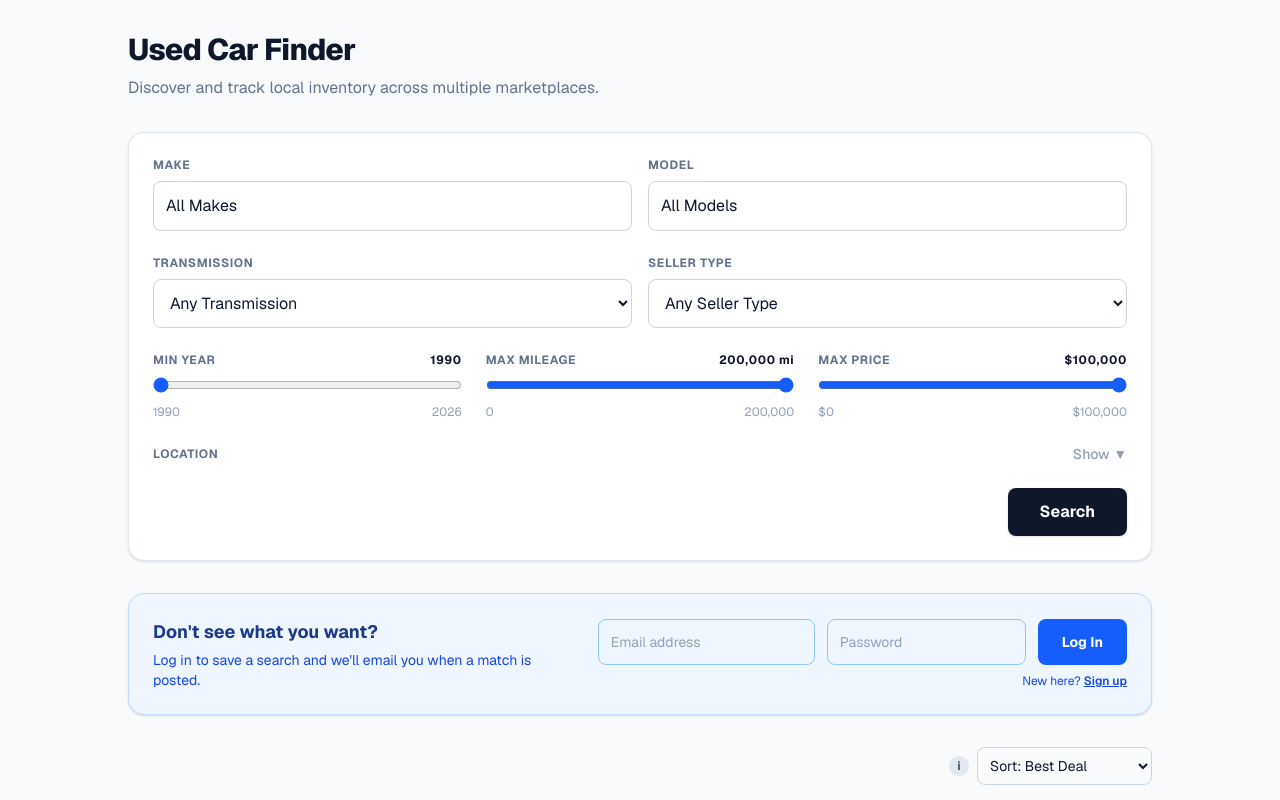
Test: auth › logging in with valid credentials switches to the Save Search form
The image size is (1280, 800).
Type "owner@example.com" into the field with placeholder "Email address" at (706, 642), box [598, 619, 815, 665]
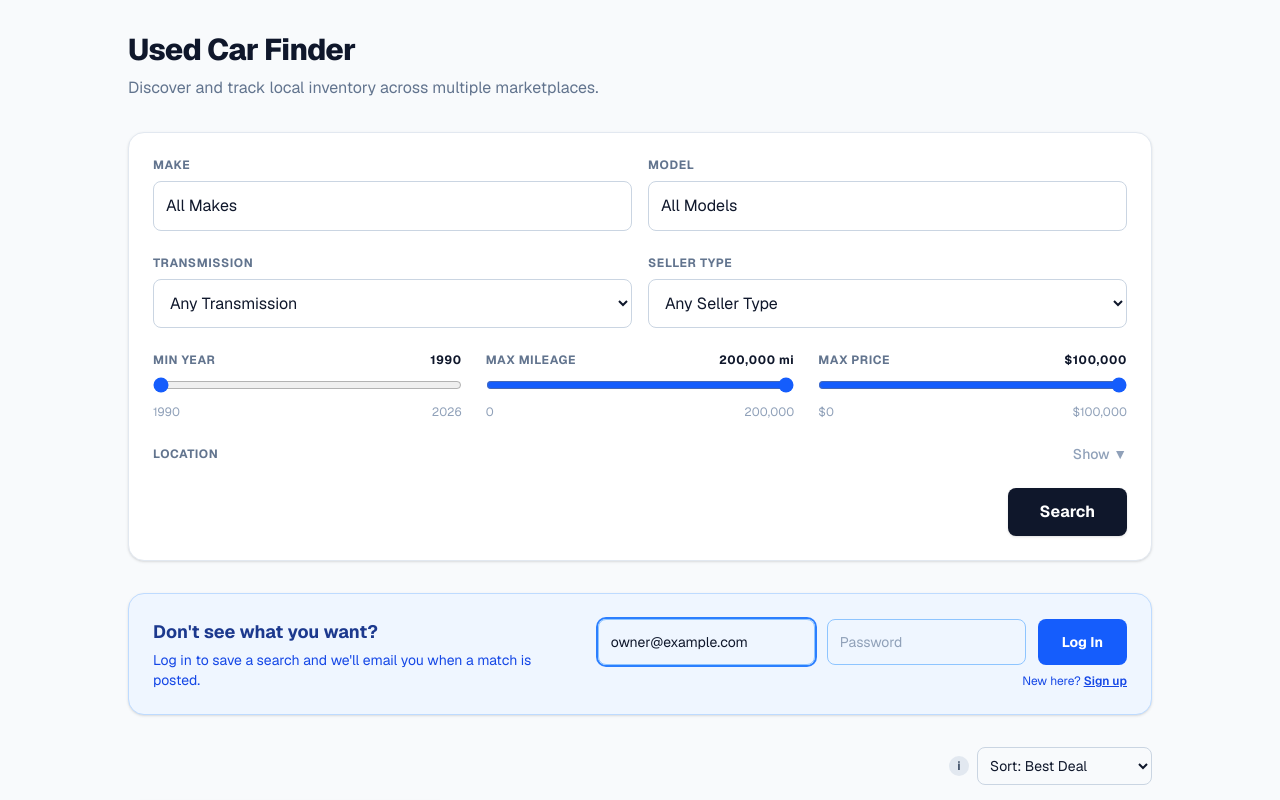
Type "hunter22" into the password field with placeholder "Password" at (926, 642), box [827, 619, 1026, 665]
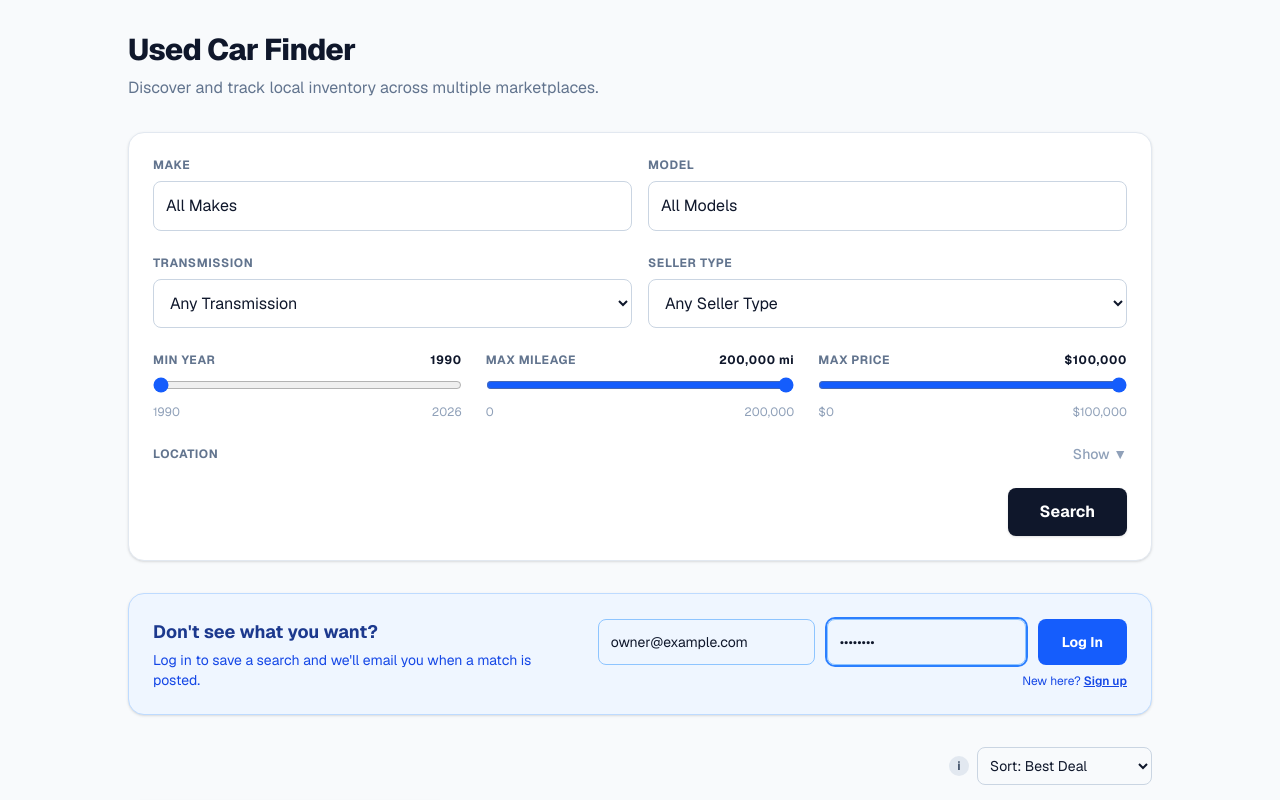
Click the button "Log In" at (1082, 642), box [1038, 619, 1127, 665]
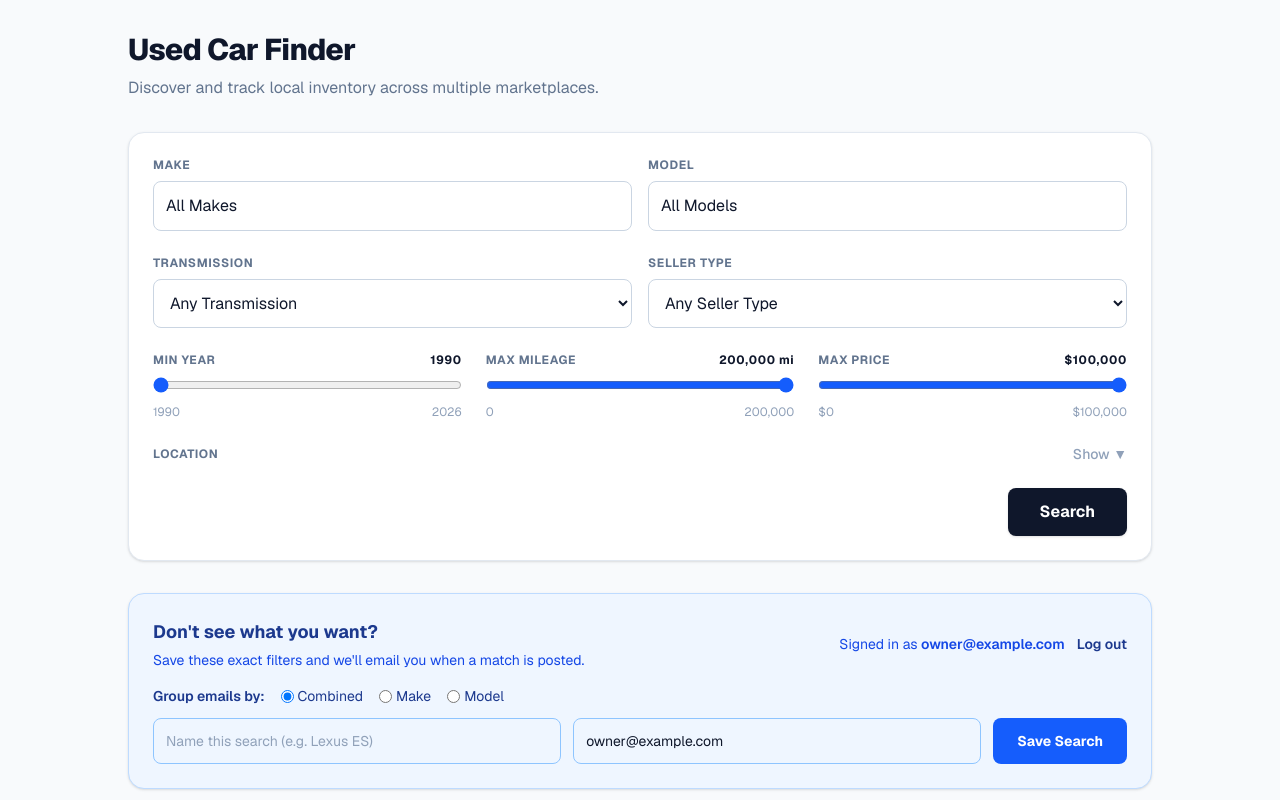
Now the text "Signed in as owner@example.com" is shown, box [839, 634, 1065, 654]
Now the button "Save Search" is shown, box [993, 718, 1127, 764]
